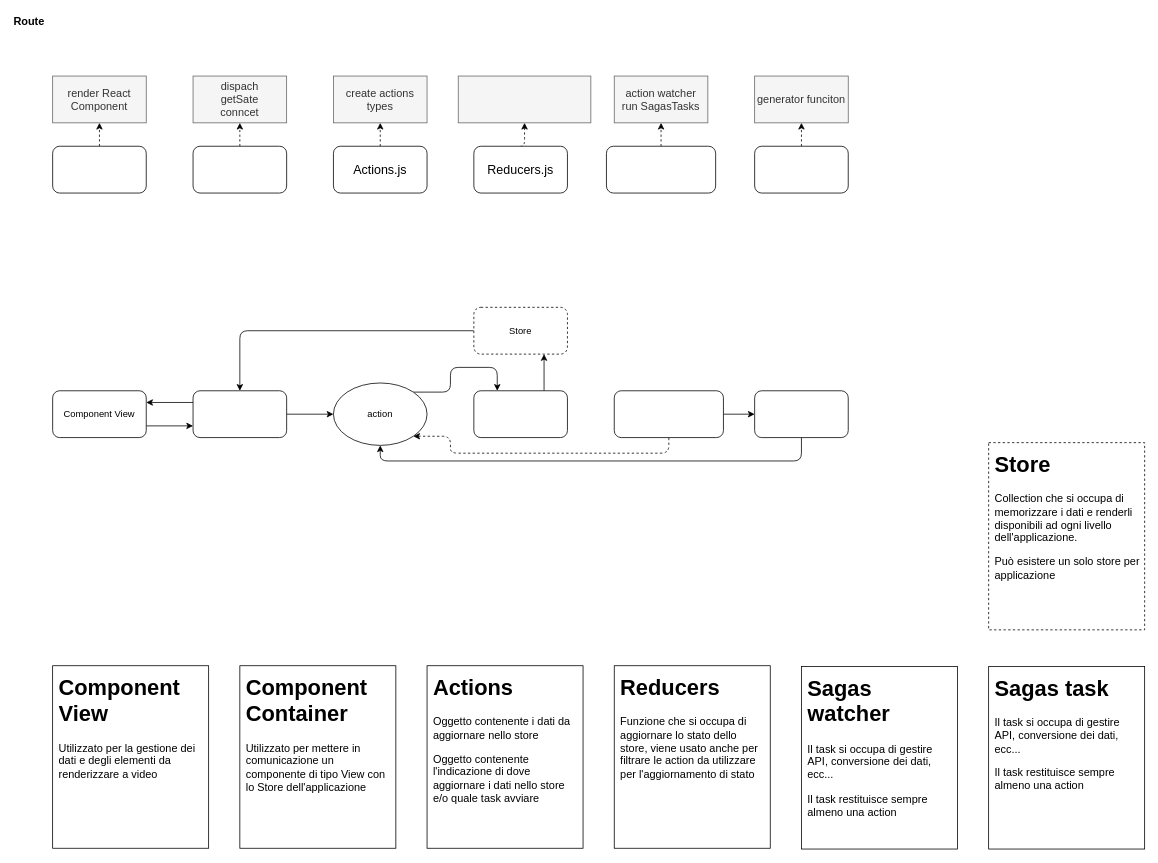
The diagram is 1158 pixels wide and 863 high, and some of its shapes have lost their labels. The shapes that lost their labels are listed below. From the top down, each one's centre as x and y in pixels, then its label:
At pixel 524 99: "init state state update action map".
At pixel 99 169: "View.jsx".
At pixel 239 169: "Container.js".
At pixel 661 169: "SagasWatcher.js".
At pixel 801 169: "SagasTask.js".
At pixel 239 414: "Component Container".
At pixel 520 414: "reducer".
At pixel 668 414: "saga watcher".
At pixel 801 414: "saga task".
